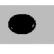correct: (7, 12, 38, 34)
